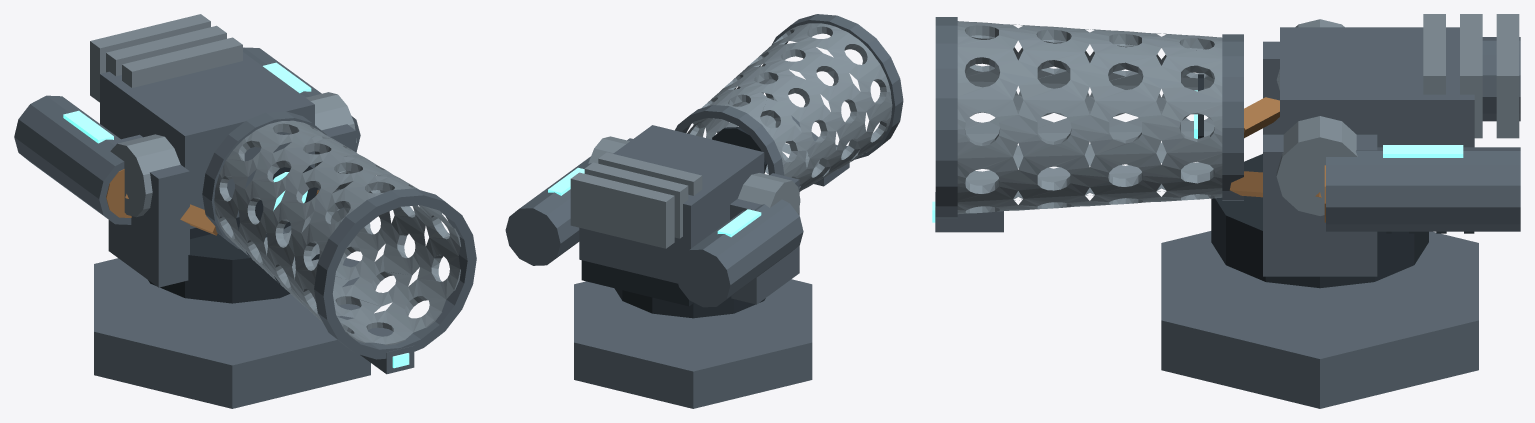
Rendered from plasma_t2_d0.meshopt.glb.
3 renders of one model, left to right at view 1: azimuth 30°, elevation 25°; view 2: azimuth 150°, elevation 25°; view 3: azimuth 270°, elevation 25°, orthographic. The views are drawn at different scales.
Parts seen in each view (by area): view 1: RECOIL_ARMOR_GEOMETRY, BASE_ARMOR_GEOMETRY, YAW_ARMOR_GEOMETRY, RECOIL_SIGNAL_GEOMETRY; view 2: RECOIL_ARMOR_GEOMETRY, BASE_ARMOR_GEOMETRY, YAW_ARMOR_GEOMETRY, RECOIL_SIGNAL_GEOMETRY; view 3: RECOIL_ARMOR_GEOMETRY, BASE_ARMOR_GEOMETRY, YAW_ARMOR_GEOMETRY, RECOIL_SIGNAL_GEOMETRY.
Part boxes in pixels (x1=…): RECOIL_ARMOR_GEOMETRY: x1=14, y1=14, x2=476, y2=374; BASE_ARMOR_GEOMETRY: x1=94, y1=258, x2=370, y2=408; YAW_ARMOR_GEOMETRY: x1=108, y1=95, x2=356, y2=303; RECOIL_SIGNAL_GEOMETRY: x1=63, y1=62, x2=409, y2=368; RECOIL_ARMOR_GEOMETRY: x1=505, y1=14, x2=903, y2=307; BASE_ARMOR_GEOMETRY: x1=574, y1=279, x2=812, y2=408; YAW_ARMOR_GEOMETRY: x1=614, y1=138, x2=799, y2=318; RECOIL_SIGNAL_GEOMETRY: x1=548, y1=167, x2=761, y2=237; RECOIL_ARMOR_GEOMETRY: x1=935, y1=14, x2=1520, y2=233; BASE_ARMOR_GEOMETRY: x1=1161, y1=231, x2=1478, y2=408; YAW_ARMOR_GEOMETRY: x1=1211, y1=41, x2=1428, y2=288; RECOIL_SIGNAL_GEOMETRY: x1=932, y1=90, x2=1463, y2=222.
Bounding box in the file's own units: 1.6 × 1.47 × 2.57.
